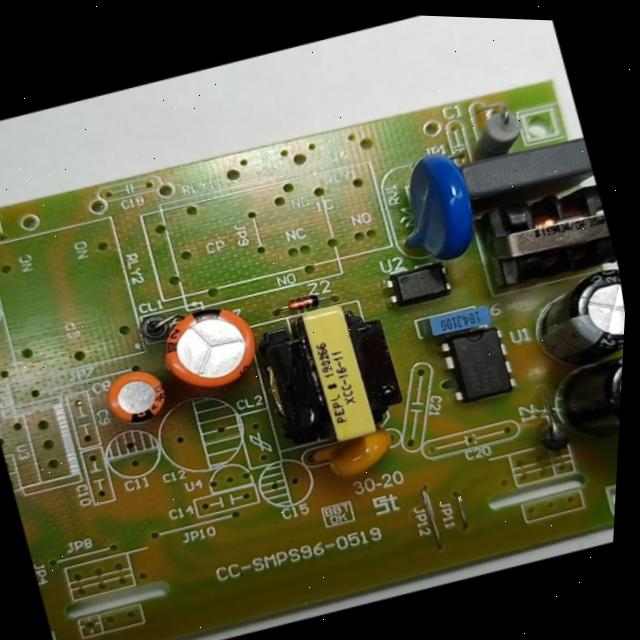Cap1: (142, 289, 274, 407)
Cap2: (96, 357, 179, 432)
Cap3: (516, 260, 628, 374)
Cap4: (545, 345, 623, 457)
MOSFET: (431, 322, 525, 410)
Mov: (375, 139, 492, 274)
Resistor: (454, 102, 534, 166)
Transformer: (243, 284, 423, 462), (465, 171, 624, 300)
